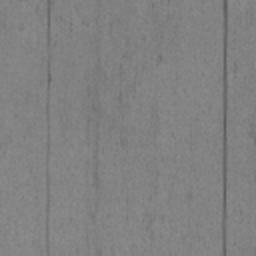Scratches: (42, 0, 52, 243), (221, 0, 228, 256)
